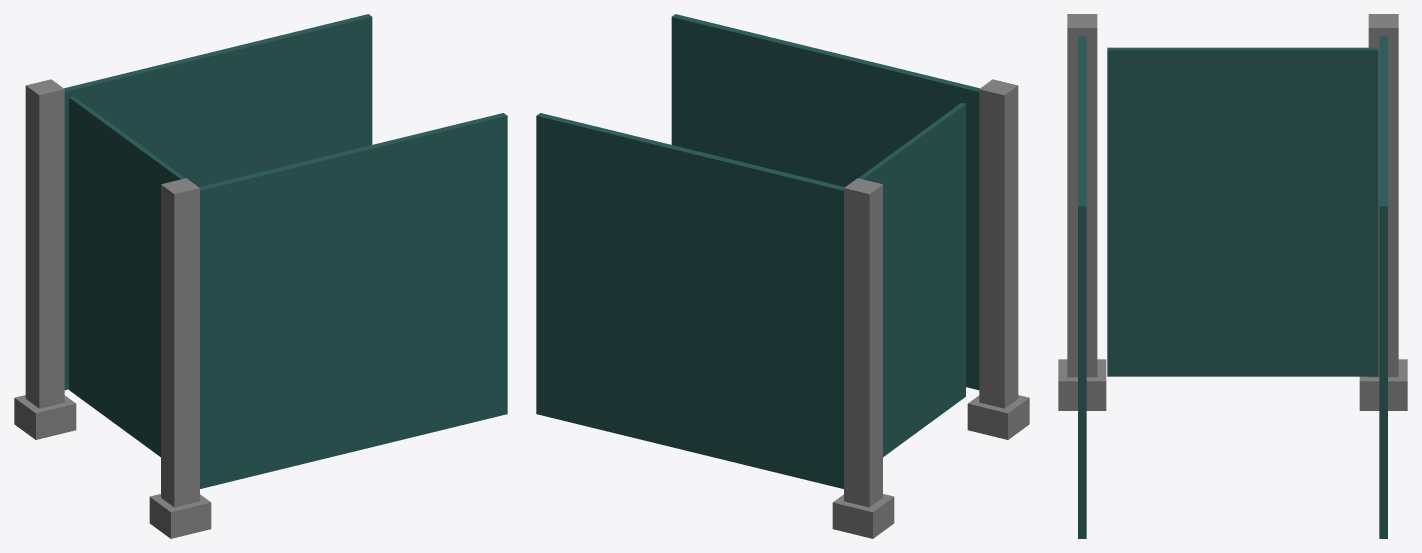
File: toilet-stall.lod1.glb
3 views of the same model, side by side, from view 1: azimuth 30°, elevation 25°; view 2: azimuth 150°, elevation 25°; view 3: azimuth 270°, elevation 25° (orthographic). The views are drawn at different scales.
Parts seen in each view (by area): view 1: banheiroPublico.001_plastico_0; view 2: banheiroPublico.001_plastico_0; view 3: banheiroPublico.001_plastico_0.
Boxes of the visible parts, <box> form: banheiroPublico.001_plastico_0: <box>14,14,507,538</box>; banheiroPublico.001_plastico_0: <box>536,14,1029,538</box>; banheiroPublico.001_plastico_0: <box>1058,14,1407,538</box>.
Bounding box in the file's own units: 2.43 × 2.29 × 1.91.
